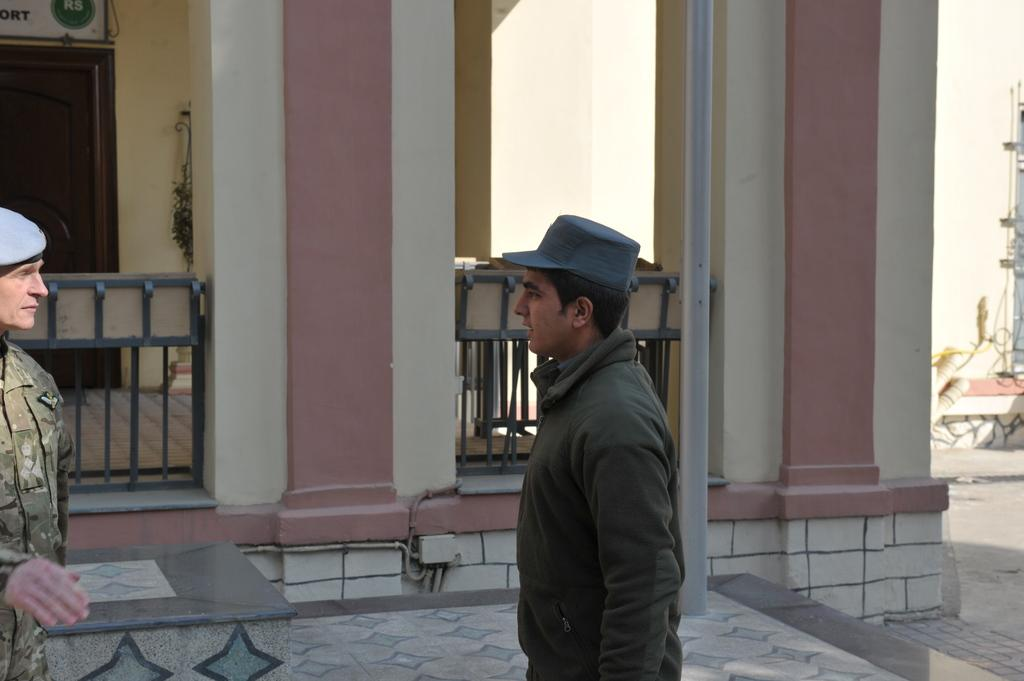Hat: (502, 210, 640, 292)
